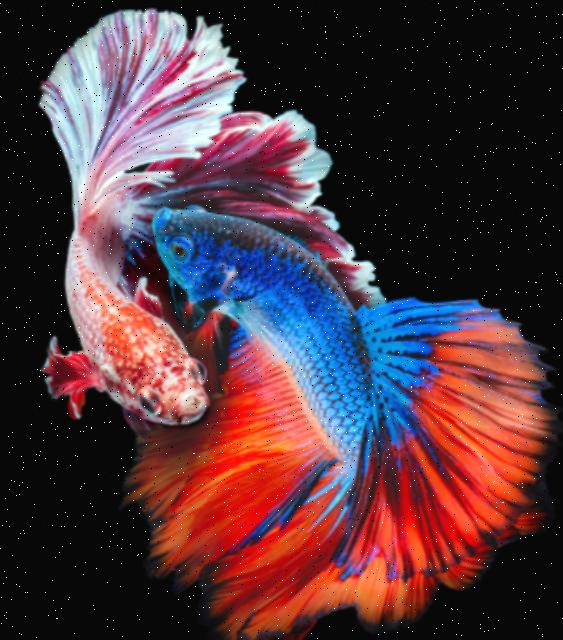Mulut: (153, 382, 229, 442), (136, 190, 182, 256)
Sirip Dada: (32, 328, 114, 434)
